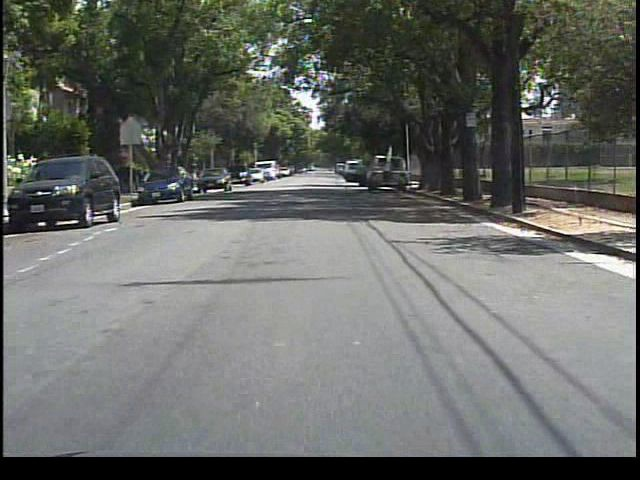person: (355, 161, 371, 188)
